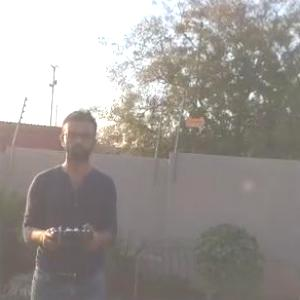follow: (20, 103, 126, 299)
